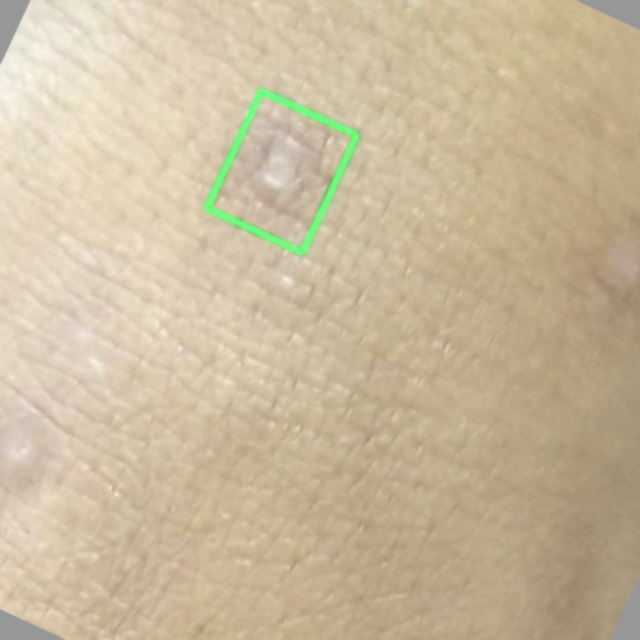Scabies: (206, 90, 356, 252)
